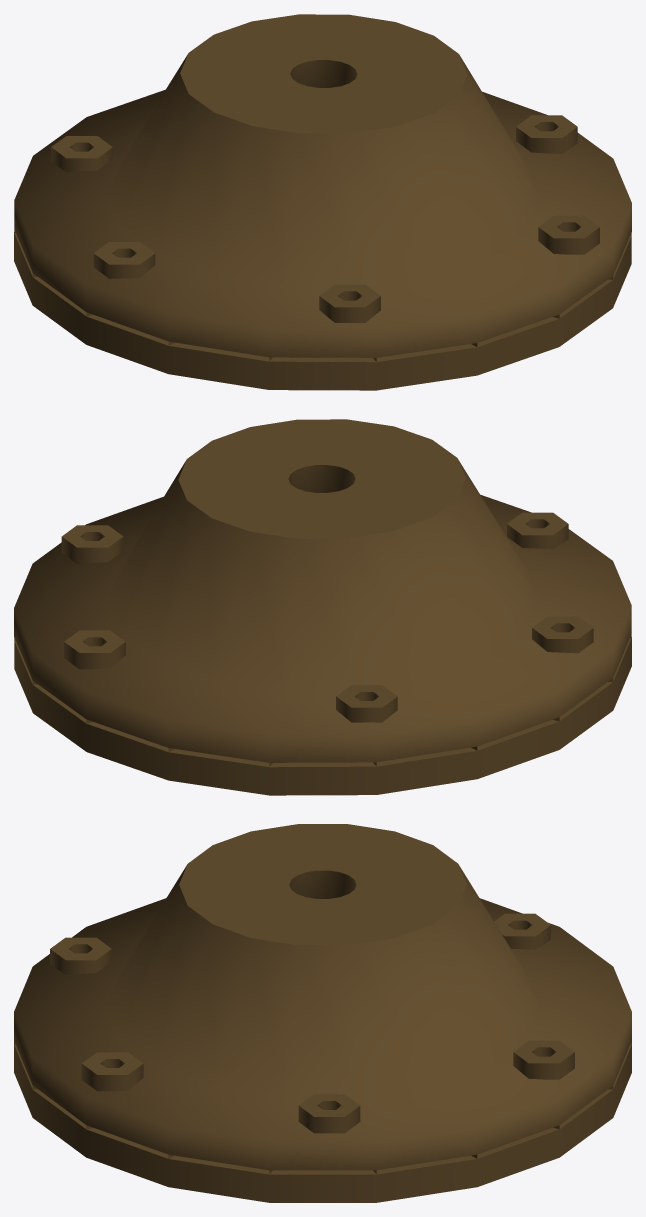
File: WeelBase.fbx
The picture shows the model from 3 angles, top to bottom: view 1: azimuth 30°, elevation 25°; view 2: azimuth 150°, elevation 25°; view 3: azimuth 270°, elevation 25°; orthographic projection.
Visible parts, largest first — view 1: WheelBase; view 2: WheelBase; view 3: WheelBase.
Boxes of the visible parts, bbox=[...] form: WheelBase: bbox=[14, 14, 631, 390]; WheelBase: bbox=[14, 419, 631, 795]; WheelBase: bbox=[14, 824, 631, 1202].
Bounding box in the file's own units: 7.86 × 2.72 × 7.98.
